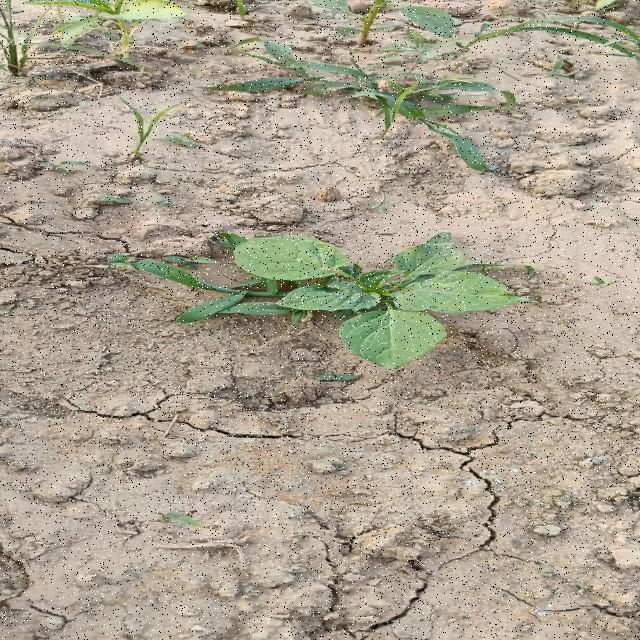plant: (135, 232, 525, 368)
